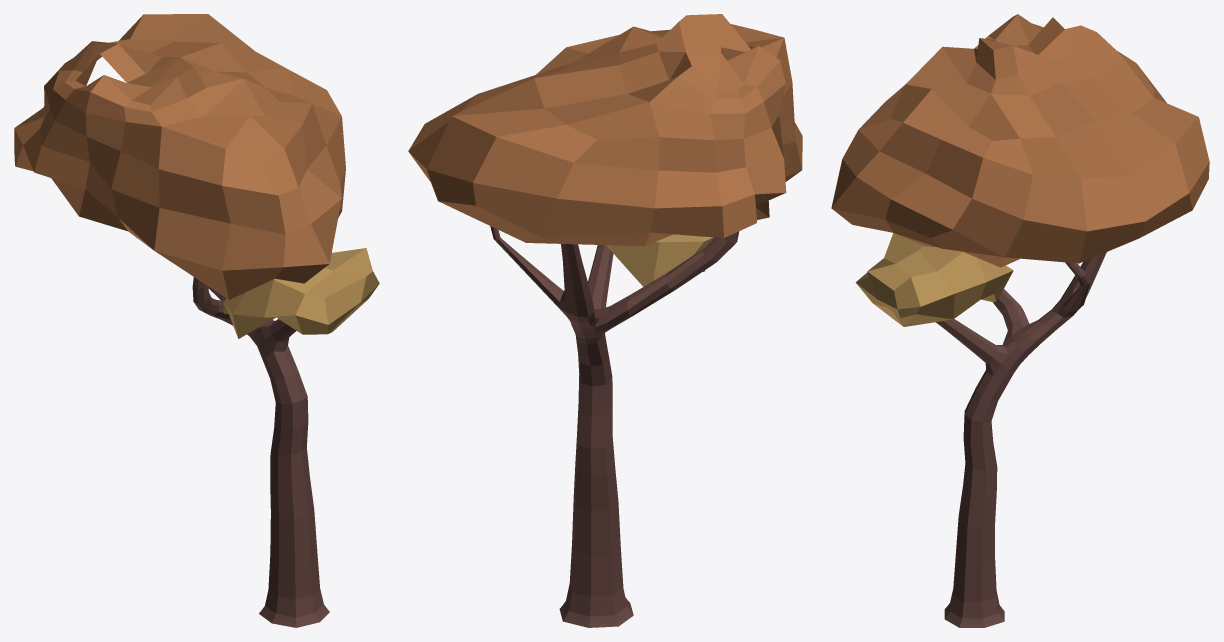
File: CommonTree_Autumn_4.glb
3 renders of one model, left to right at view 1: azimuth 30°, elevation 25°; view 2: azimuth 150°, elevation 25°; view 3: azimuth 270°, elevation 25°, orthographic. The views are drawn at different scales.
Visible parts, largest first — view 1: CommonTree_Autumn_4_Cube.098; view 2: CommonTree_Autumn_4_Cube.098; view 3: CommonTree_Autumn_4_Cube.098.
Part boxes in pixels (box(x1,y1,x2,y2)): CommonTree_Autumn_4_Cube.098: box(14, 14, 379, 627); CommonTree_Autumn_4_Cube.098: box(408, 14, 802, 627); CommonTree_Autumn_4_Cube.098: box(831, 14, 1209, 627).
Size of the model in its own units: 1.58 by 2.78 by 1.8.
